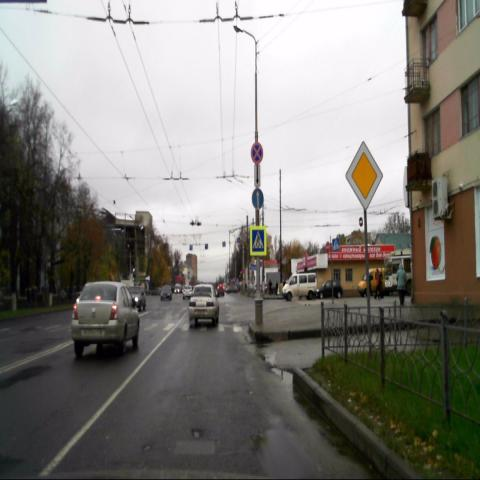4_1_1: (252, 188, 263, 210)
